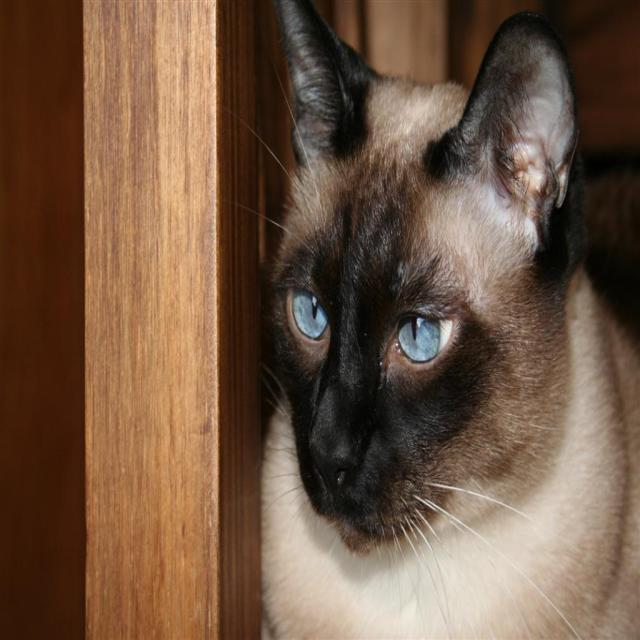Cat: (218, 0, 640, 639)
